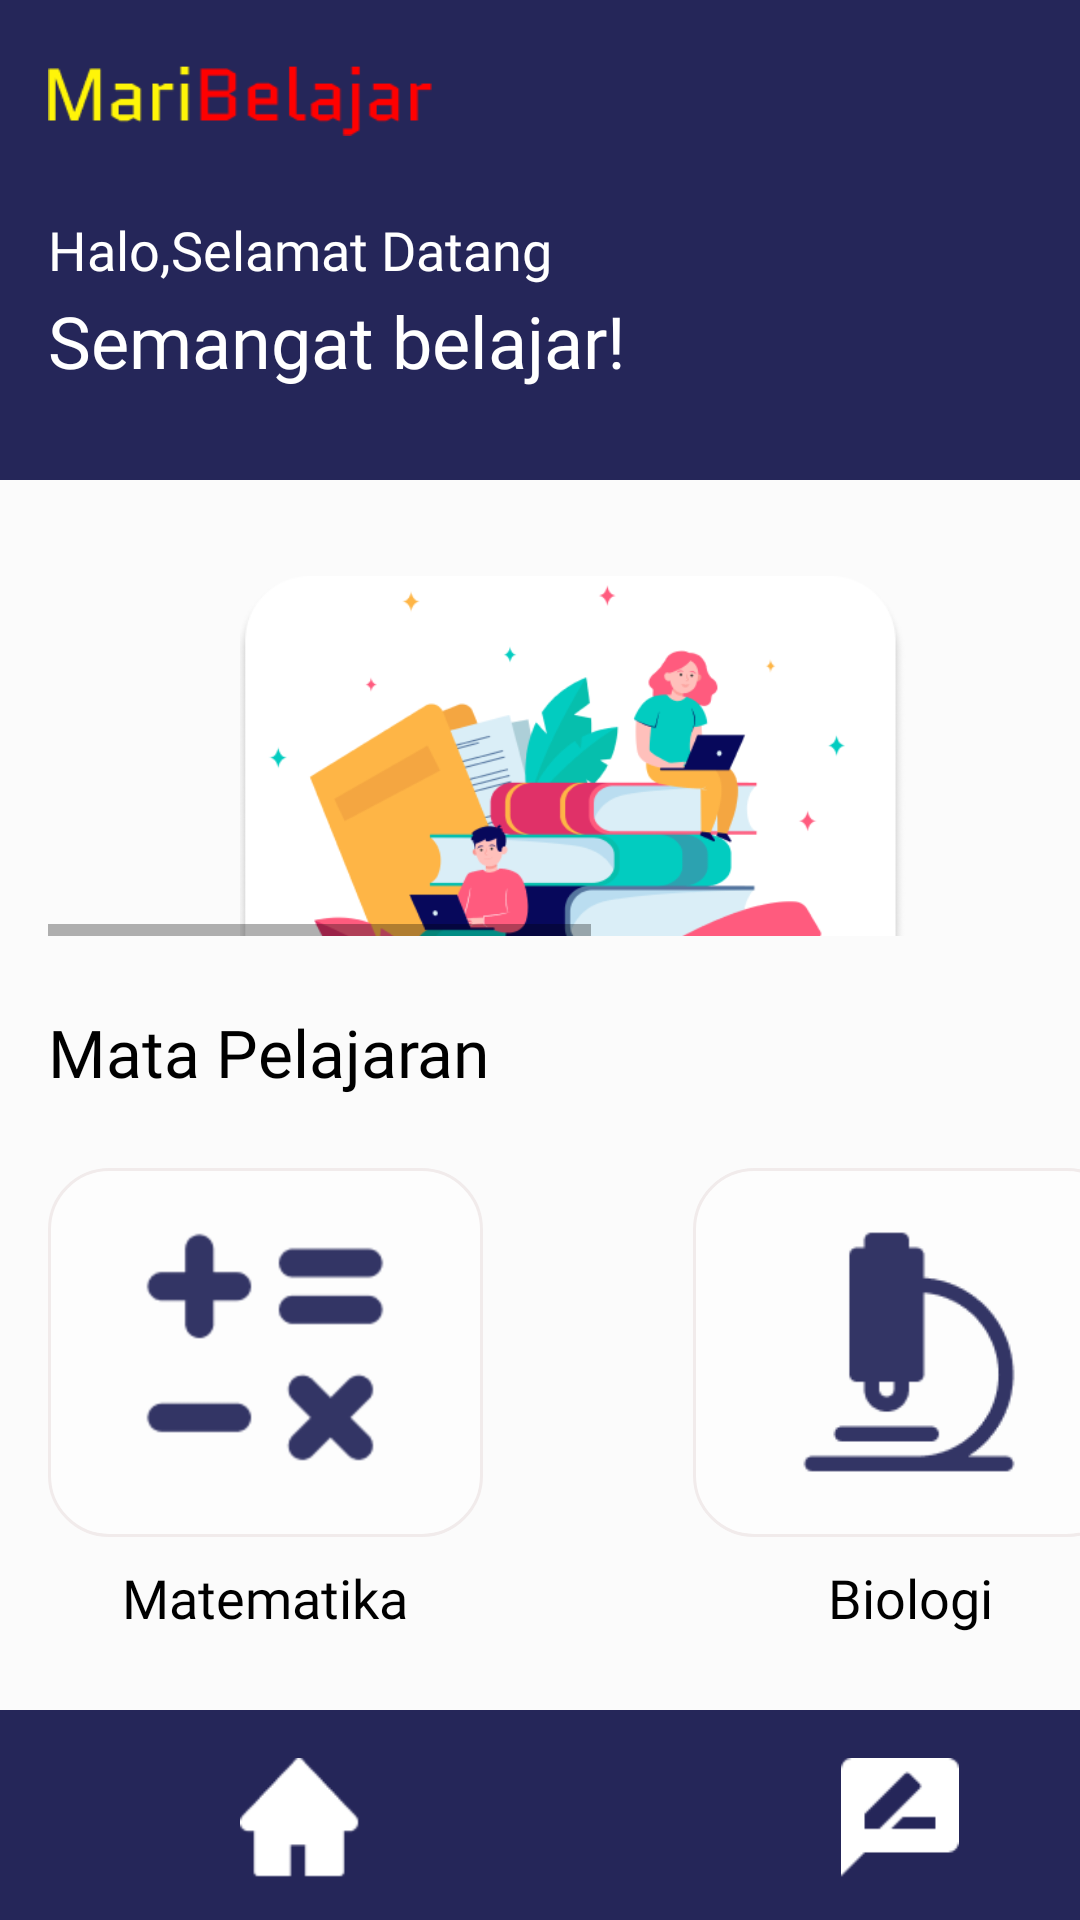

Named icons in this screenshot (1080 × 1920) and their centers, [x,y]:
bio: [909,1352]
home: [299,1817]
math: [265,1347]
review: [900,1817]
